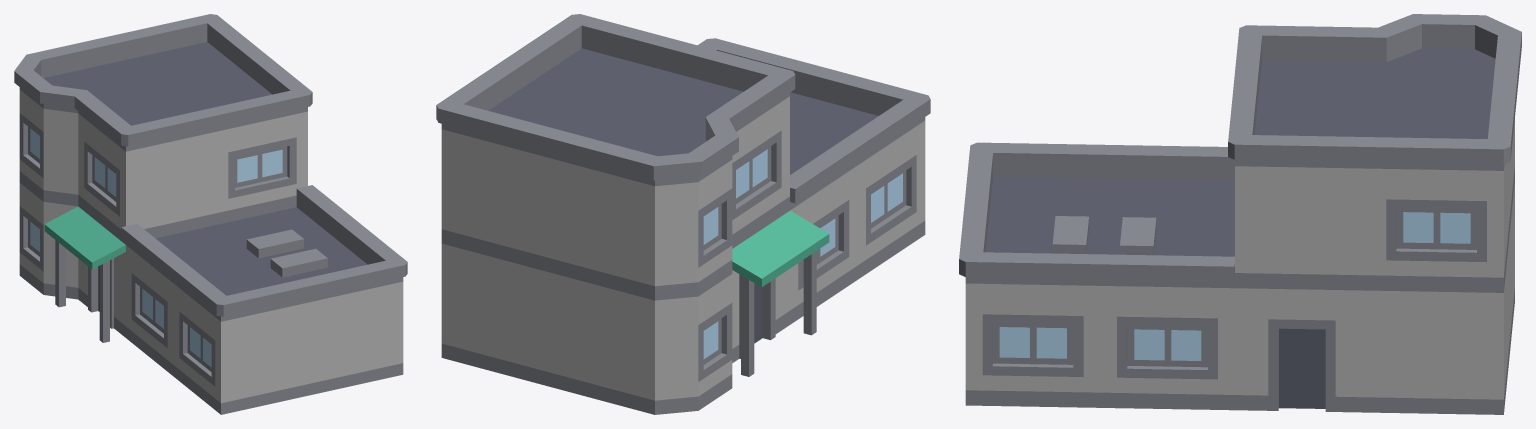
The model's file is small_buildinge_lev2.glb.
3 views of the same model, side by side, from view 1: azimuth 30°, elevation 25°; view 2: azimuth 150°, elevation 25°; view 3: azimuth 270°, elevation 25° (orthographic). The views are drawn at different scales.
Visible parts, largest first — view 1: small_buildinge_lev2; view 2: small_buildinge_lev2; view 3: small_buildinge_lev2.
Boxes of the visible parts, bbox=[...] form: small_buildinge_lev2: bbox=[14, 14, 407, 414]; small_buildinge_lev2: bbox=[436, 14, 930, 414]; small_buildinge_lev2: bbox=[959, 14, 1521, 414].
Bounding box in the file's own units: 10.96 × 9.64 × 18.31.
